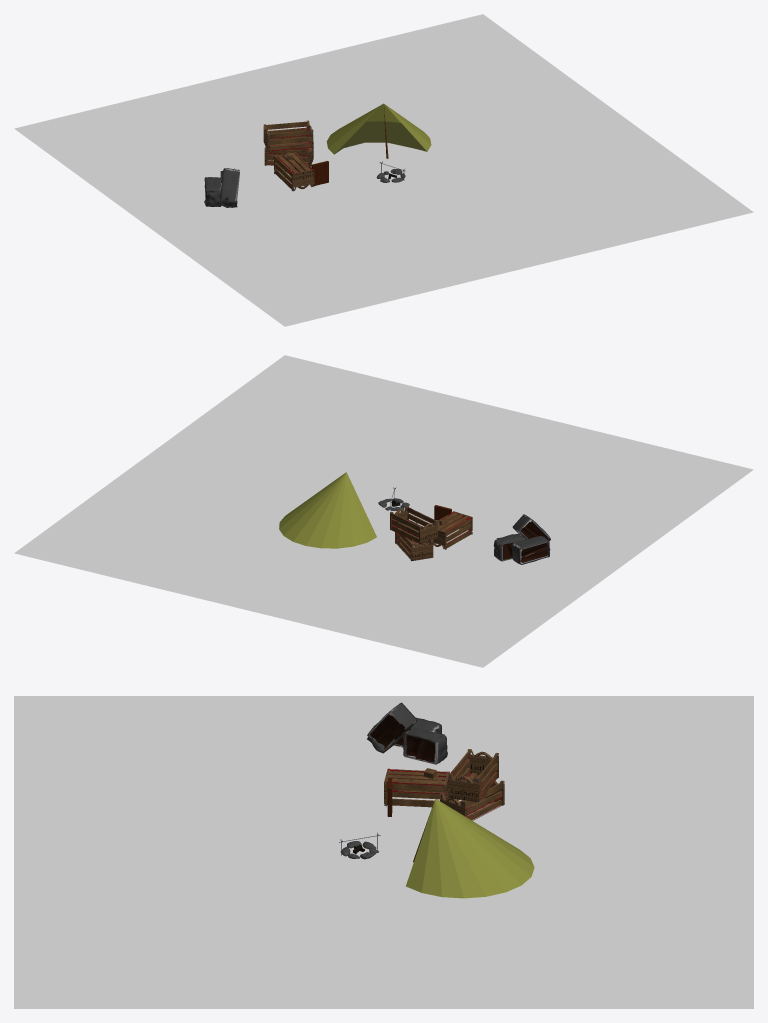
The model's file is CaissesBois.fbx.
The picture shows the model from 3 angles, top to bottom: view 1: azimuth 30°, elevation 25°; view 2: azimuth 150°, elevation 25°; view 3: azimuth 270°, elevation 25°; orthographic projection. The views are drawn at different scales.
Parts seen in each view (by area): view 1: SolFictif, tente, caisseBois.002, Caisses, caisseBois; view 2: SolFictif, tente, Caisses, caisseBois.002, caisseBois, caisseBois.001; view 3: SolFictif, tente, Caisses, caisseBois.002, caisseBois, caisseBois.001, feuDeCamp.
Part boxes in pixels (<box>): SolFictif: <box>14,14,753,326</box>; tente: <box>326,103,431,158</box>; caisseBois.002: <box>263,120,313,151</box>; Caisses: <box>204,168,239,207</box>; caisseBois: <box>274,152,314,191</box>; SolFictif: <box>14,355,753,667</box>; tente: <box>279,472,376,548</box>; Caisses: <box>493,514,550,564</box>; caisseBois.002: <box>390,506,437,544</box>; caisseBois: <box>432,511,472,549</box>; caisseBois.001: <box>395,522,433,561</box>; SolFictif: <box>14,696,753,1008</box>; tente: <box>405,798,534,898</box>; Caisses: <box>367,702,447,764</box>; caisseBois.002: <box>448,749,498,802</box>; caisseBois: <box>384,768,449,807</box>; caisseBois.001: <box>440,775,504,820</box>; feuDeCamp: <box>339,832,380,859</box>.
Bounding box in the file's own units: 2340 × 314 × 2340.
